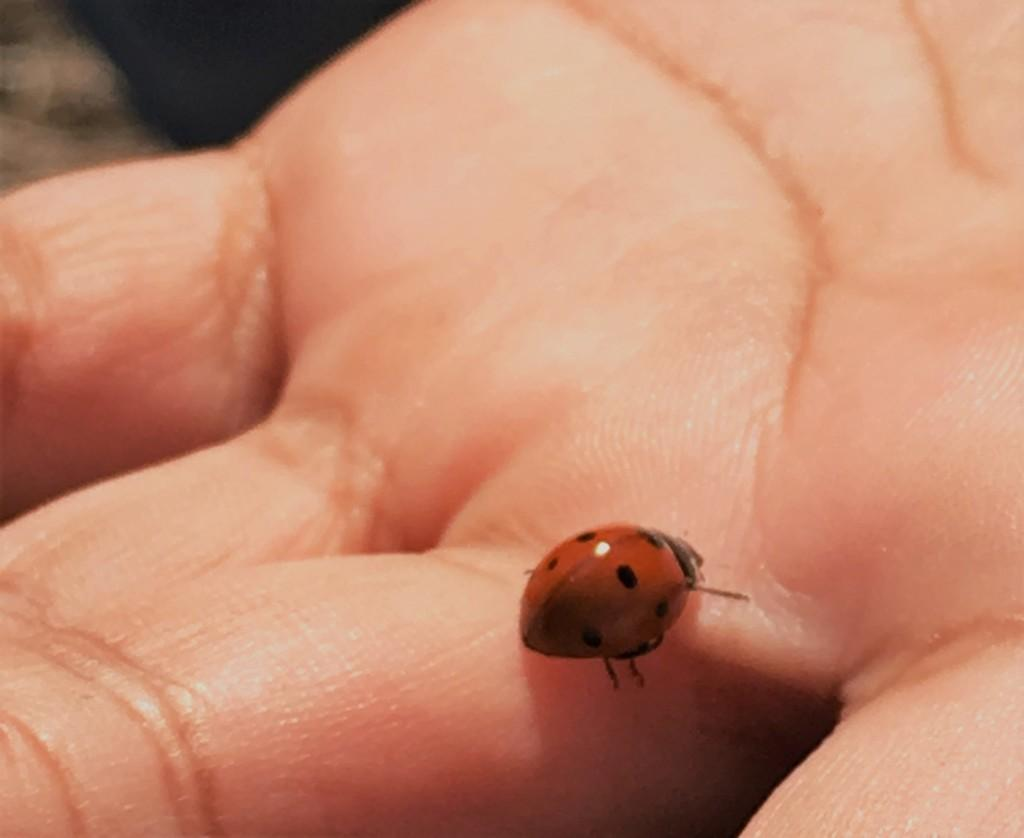ladybug: (521, 524, 751, 694)
